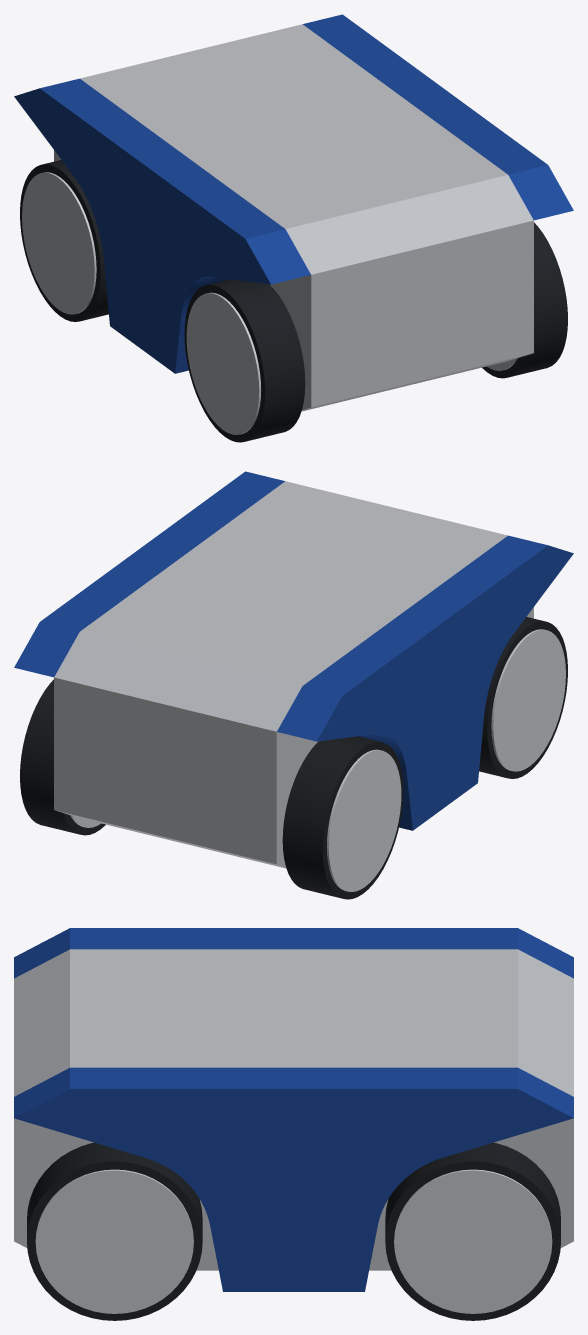
File: fusion.glb
3 renders of one model, top to bottom at view 1: azimuth 30°, elevation 25°; view 2: azimuth 150°, elevation 25°; view 3: azimuth 270°, elevation 25°, orthographic. The views are drawn at different scales.
Visible parts, largest first — view 1: fusion, drive-wheel-3, drive-wheel-1, drive-wheel-2; view 2: fusion, drive-wheel-1, drive-wheel-3, drive-wheel-0; view 3: fusion, drive-wheel-0, drive-wheel-2.
Part boxes in pixels (x1,y1,x2,y2): fusion: [14, 14, 573, 411]; drive-wheel-3: [184, 279, 305, 442]; drive-wheel-1: [20, 160, 108, 321]; drive-wheel-2: [482, 222, 567, 378]; fusion: [14, 471, 573, 868]; drive-wheel-1: [282, 736, 403, 899]; drive-wheel-3: [479, 617, 567, 778]; drive-wheel-0: [20, 679, 105, 835]; fusion: [14, 928, 573, 1291]; drive-wheel-0: [385, 1142, 560, 1320]; drive-wheel-2: [27, 1142, 202, 1320].
Bounding box in the file's own units: 0.3444 × 0.2285 × 0.5.
